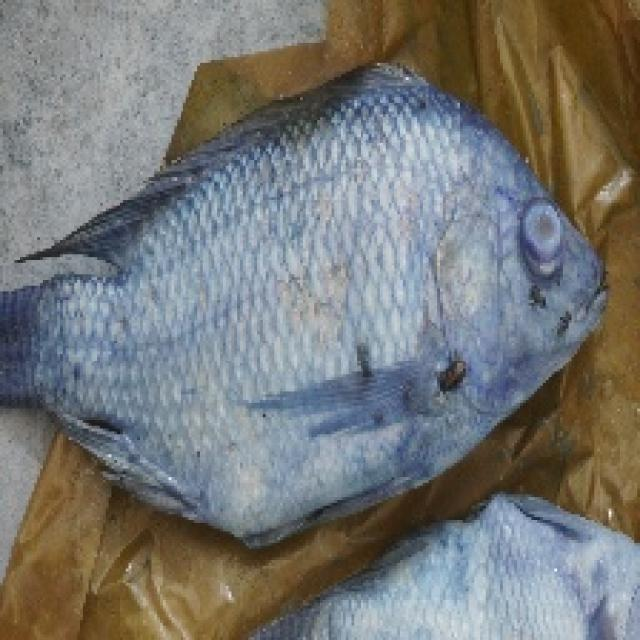Non-Fresh: (176, 188, 484, 485), (508, 184, 590, 299)
